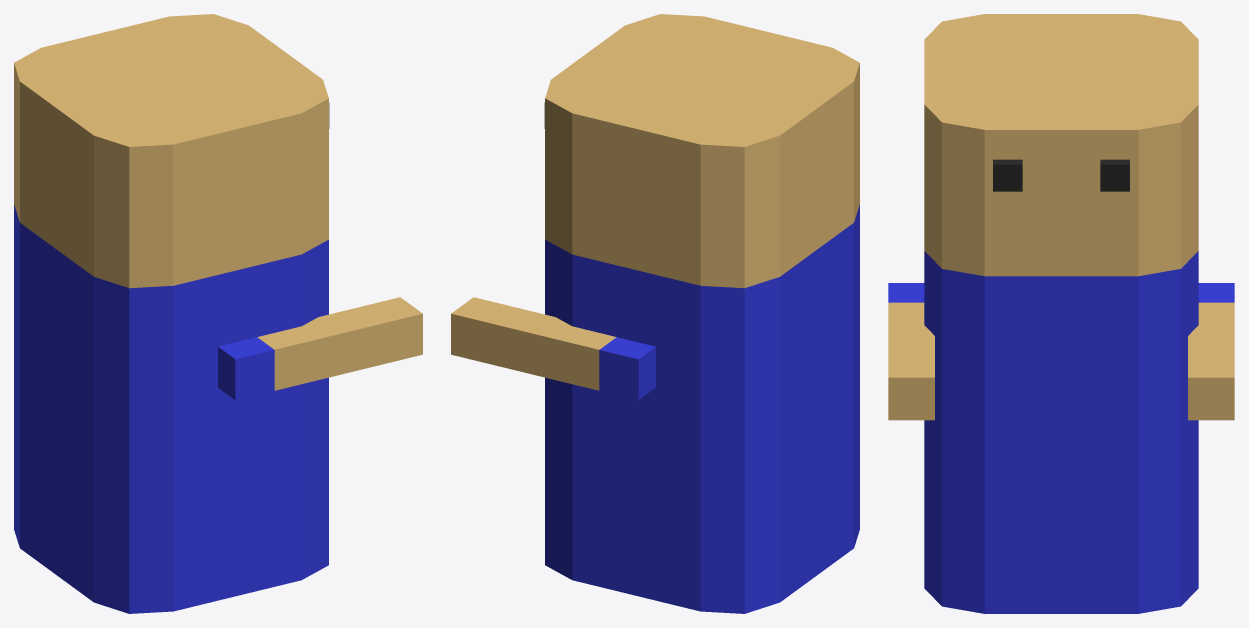
The model's file is BasicDude.fbx.
3 views of the same model, side by side, from view 1: azimuth 30°, elevation 25°; view 2: azimuth 150°, elevation 25°; view 3: azimuth 270°, elevation 25° (orthographic). The views are drawn at different scales.
Visible parts, largest first — view 1: Body; view 2: Body; view 3: Body.
Part boxes in pixels (bbox=[...]): Body: bbox=[14, 14, 422, 613]; Body: bbox=[451, 14, 859, 613]; Body: bbox=[888, 14, 1234, 613].
Bounding box in the file's own units: 206 × 326 × 211.
